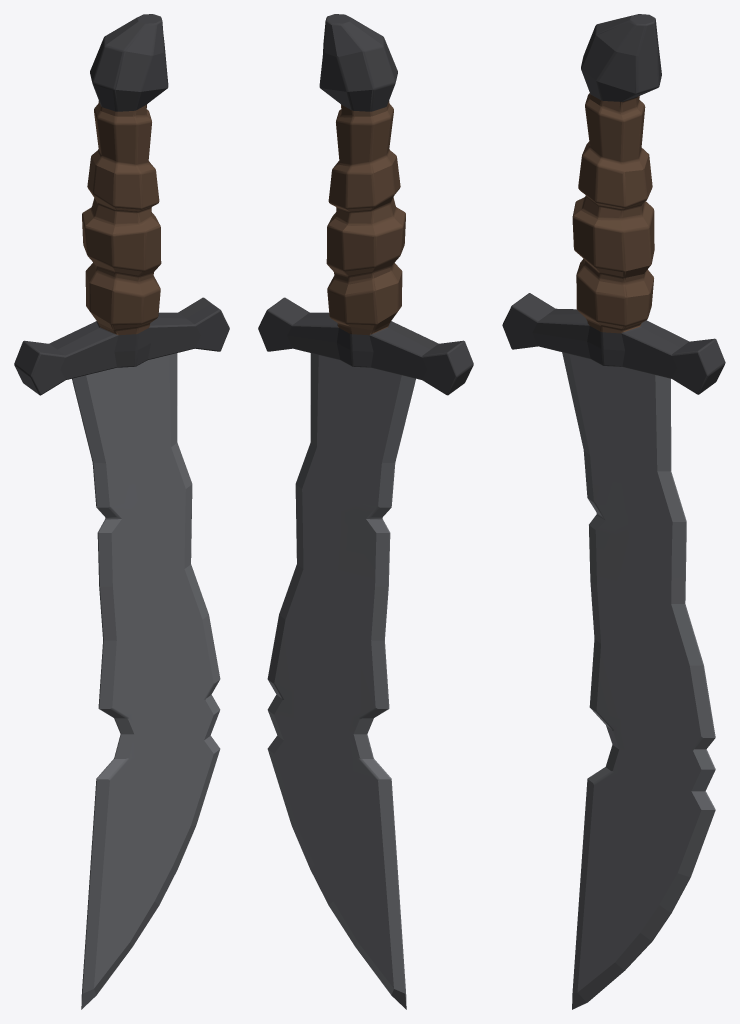
File: dagger_2.glb
3 renders of one model, left to right at view 1: azimuth 30°, elevation 25°; view 2: azimuth 150°, elevation 25°; view 3: azimuth 330°, elevation 25°, orthographic. The views are drawn at different scales.
Visible parts, largest first — view 1: dagger_2; view 2: dagger_2; view 3: dagger_2.
Boxes of the visible parts, left/top/right/bottom form: dagger_2: left=14, top=14, right=229, bottom=1009; dagger_2: left=258, top=14, right=473, bottom=1009; dagger_2: left=502, top=14, right=725, bottom=1009.
Size of the model in its own units: 0.0899 by 0.42 by 0.0333.
